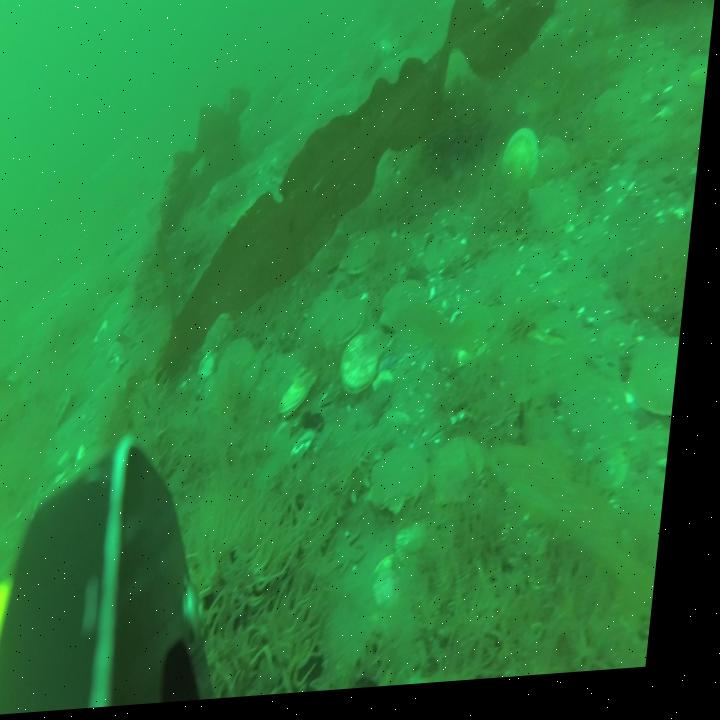holothurian: (335, 435, 396, 525)
scallop: (636, 345, 688, 438), (380, 453, 439, 531), (443, 440, 494, 515), (260, 354, 306, 427), (534, 184, 584, 251), (346, 332, 389, 403), (225, 341, 268, 406), (505, 135, 548, 198), (388, 285, 433, 339), (285, 374, 326, 428), (332, 304, 376, 354), (309, 295, 350, 345), (347, 236, 385, 285), (599, 98, 638, 142), (431, 233, 464, 284), (540, 147, 573, 197)
